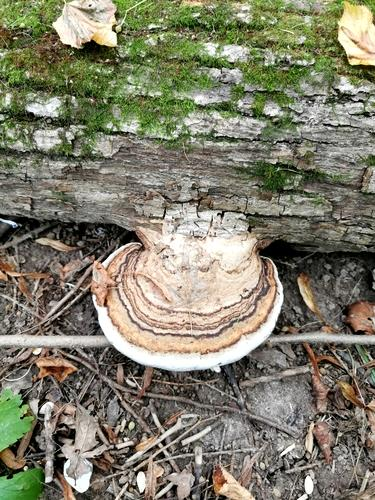Ganoderma - Fruit Body: (91, 231, 287, 372)
